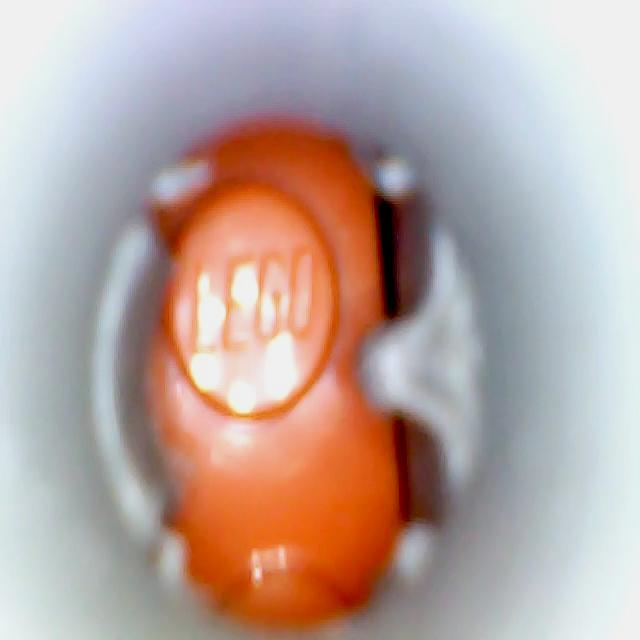studs: (168, 189, 335, 416)
